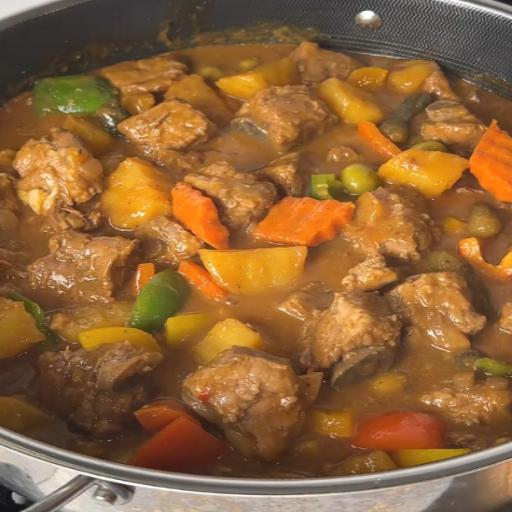pork caldereta: (0, 58, 512, 448)
